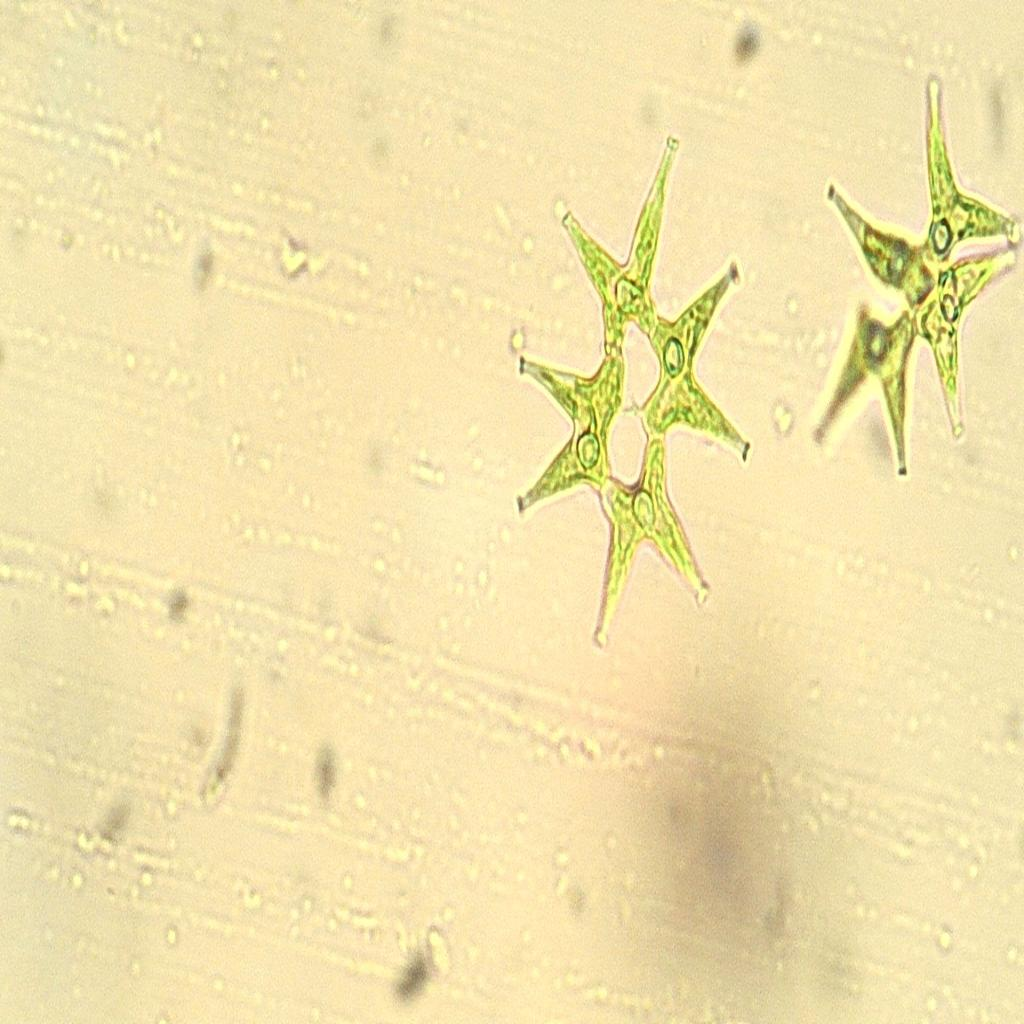Pediastrum_75FO: (488, 100, 780, 668)
